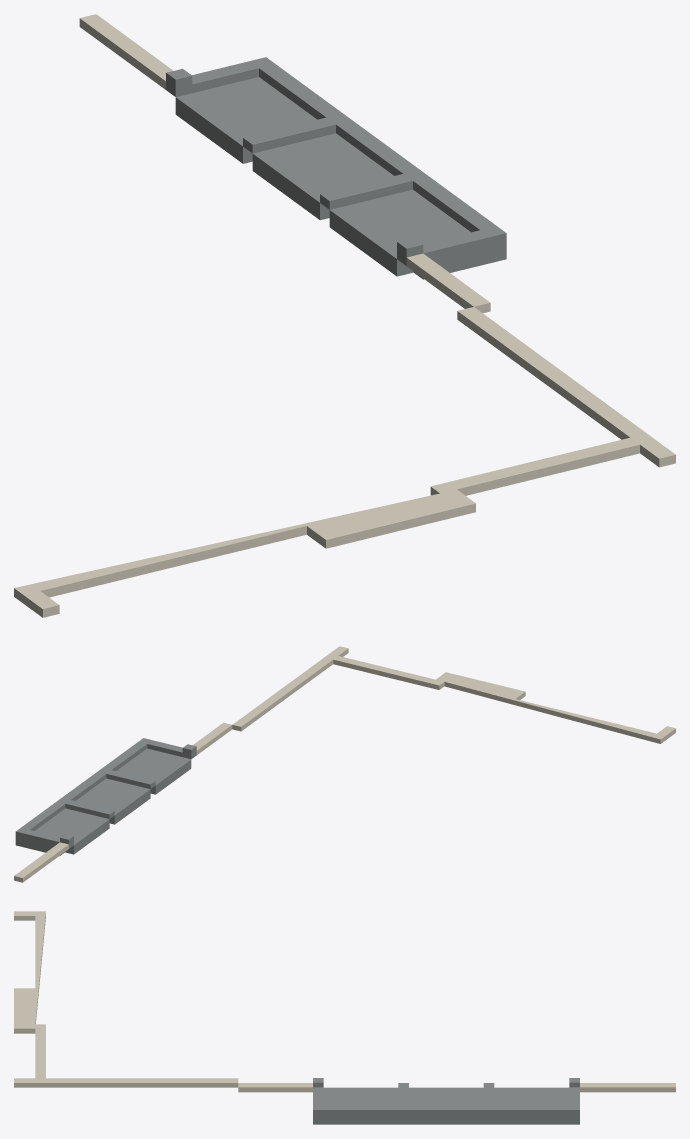
3 renders of one model, top to bottom at view 1: azimuth 30°, elevation 25°; view 2: azimuth 150°, elevation 25°; view 3: azimuth 270°, elevation 25°, orthographic. The views are drawn at different scales.
Visible parts, largest first — view 1: buildings_s_0_2_Standing_Seam_Roof, buildings_s_0_2_Warm_Limestone; view 2: buildings_s_0_2_Standing_Seam_Roof, buildings_s_0_2_Warm_Limestone; view 3: buildings_s_0_2_Standing_Seam_Roof, buildings_s_0_2_Warm_Limestone.
Part boxes in pixels (bbox=[...]): buildings_s_0_2_Standing_Seam_Roof: bbox=[166, 57, 506, 279]; buildings_s_0_2_Warm_Limestone: bbox=[14, 14, 675, 617]; buildings_s_0_2_Standing_Seam_Roof: bbox=[15, 738, 196, 855]; buildings_s_0_2_Warm_Limestone: bbox=[14, 646, 675, 882]; buildings_s_0_2_Standing_Seam_Roof: bbox=[313, 1078, 579, 1124]; buildings_s_0_2_Warm_Limestone: bbox=[14, 911, 675, 1092].
Bounding box in the file's own units: 44 × 2 × 62.
